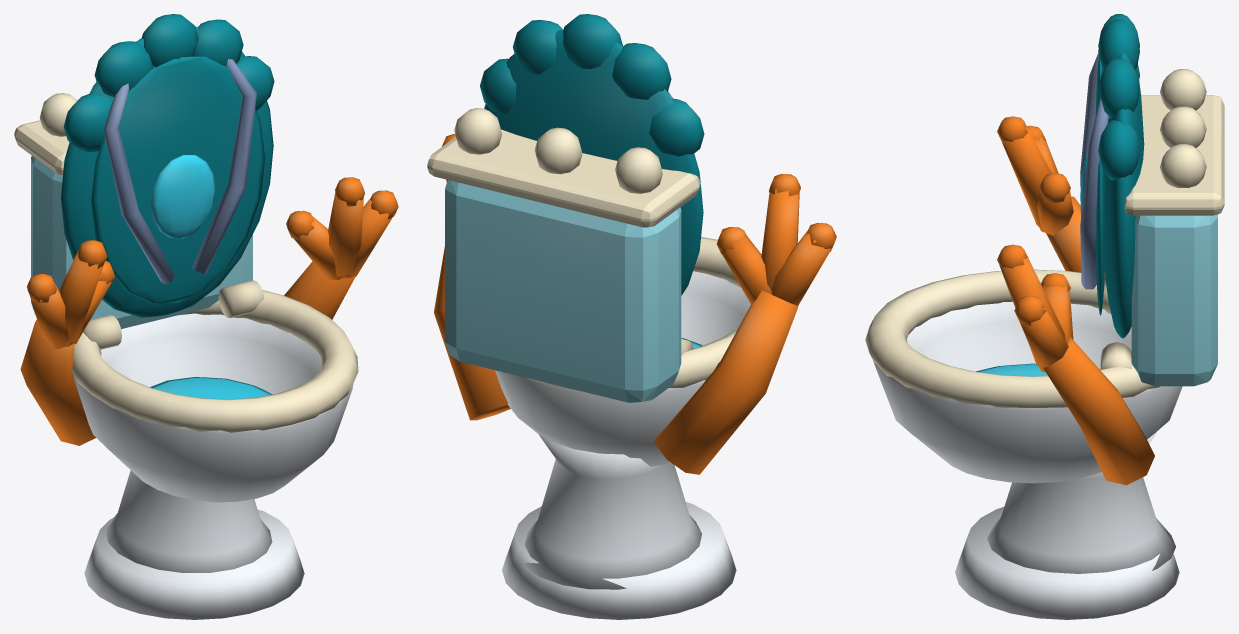
The model's file is CoralCommode.fbx.
The picture shows the model from 3 angles, left to right: view 1: azimuth 30°, elevation 25°; view 2: azimuth 150°, elevation 25°; view 3: azimuth 270°, elevation 25°; orthographic projection. The views are drawn at different scales.
Parts seen in each view (by area): view 1: CoralCommode; view 2: CoralCommode; view 3: CoralCommode.
Part boxes in pixels (x1,y1,x2,y2): CoralCommode: [14, 14, 398, 619]; CoralCommode: [427, 14, 836, 619]; CoralCommode: [865, 14, 1224, 619].
Bounding box in the file's own units: 3.52 × 4.92 × 2.91.
Materials: 1 (1 with a texture image).
